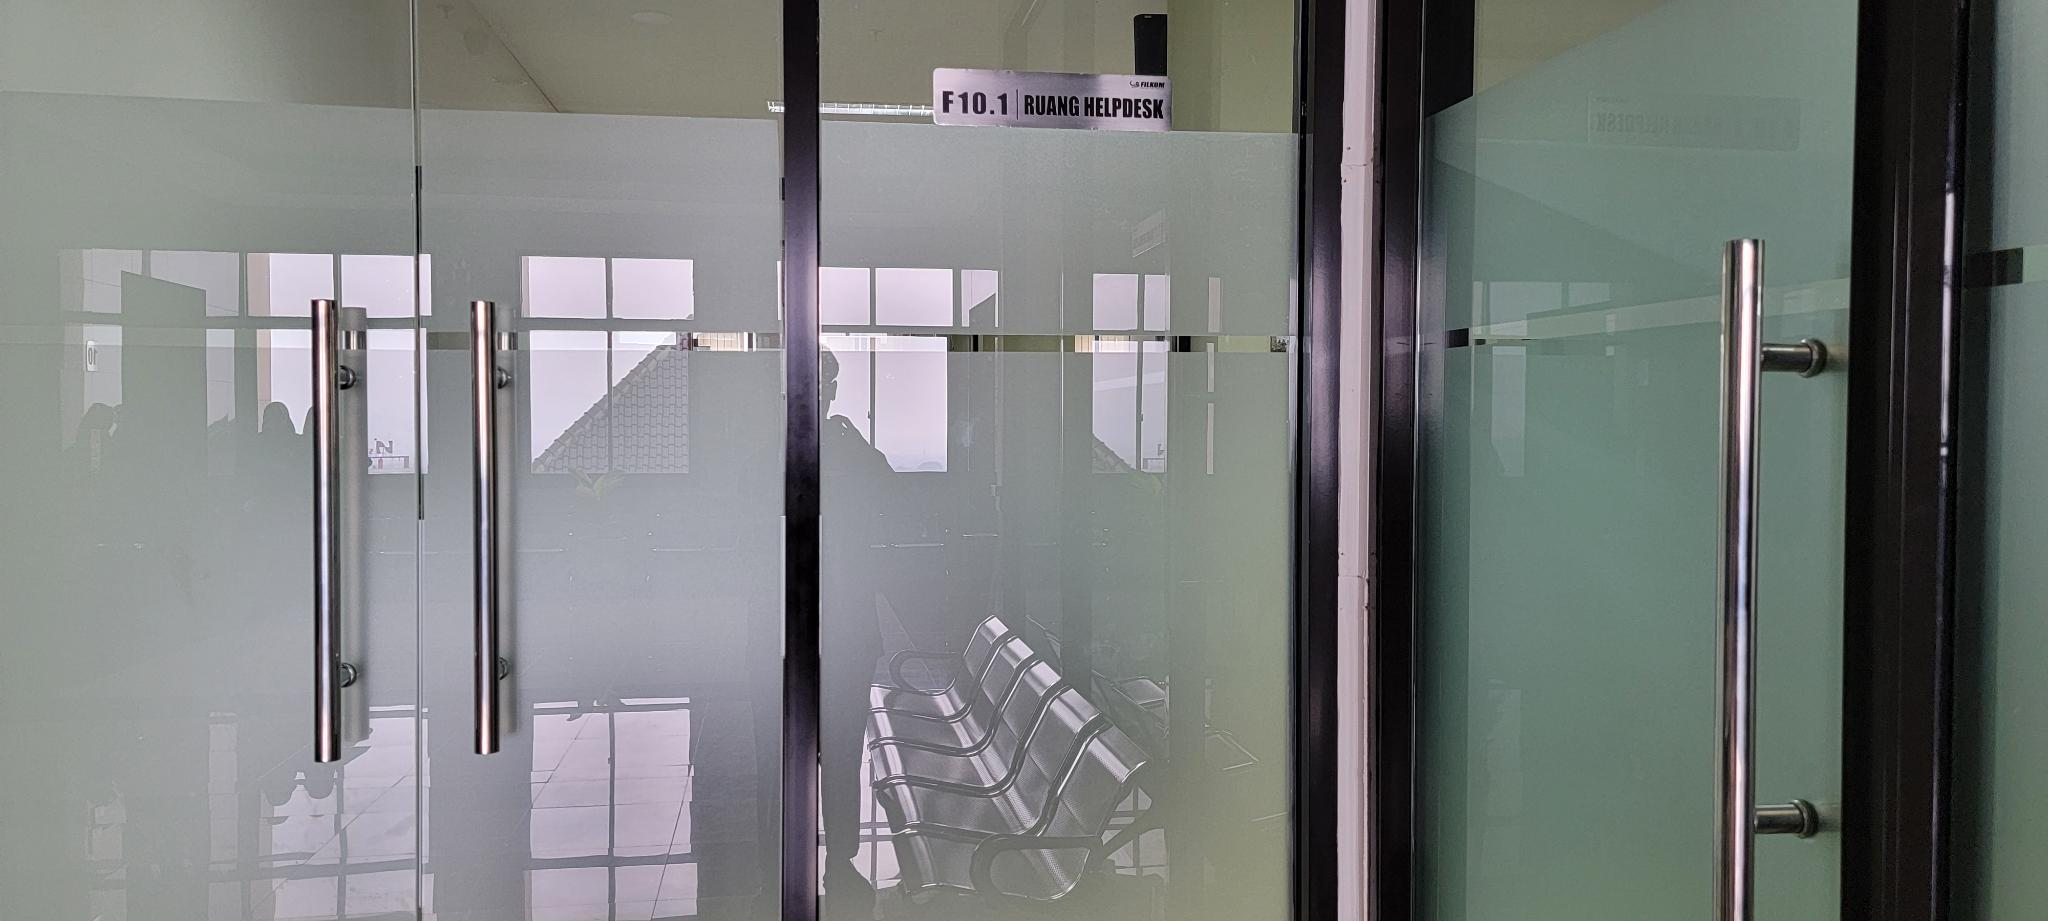plate: (926, 67, 1173, 132)
